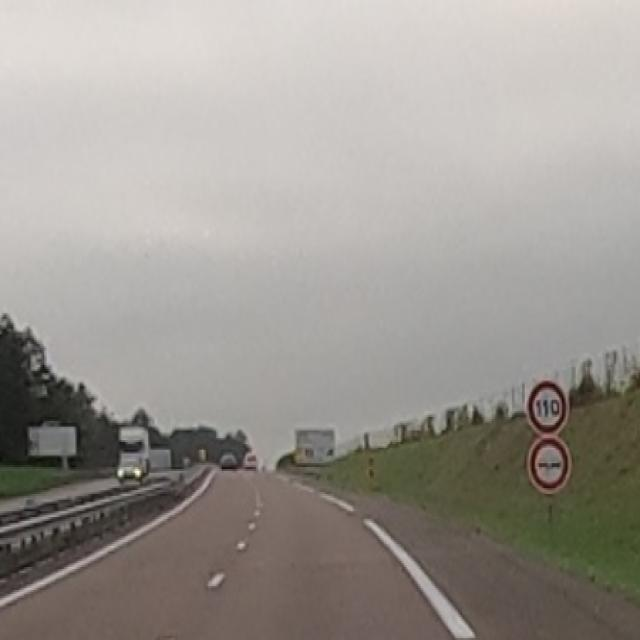speed_110: (528, 380, 568, 435)
